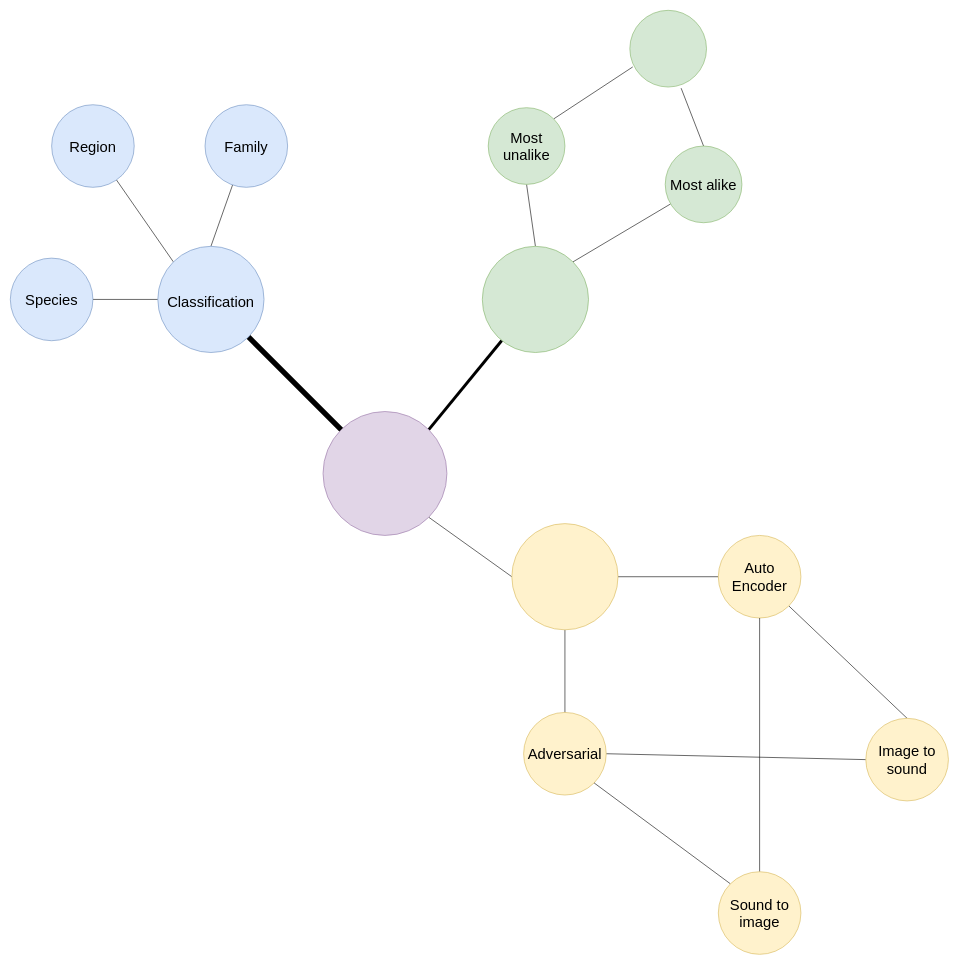
This 959x965 diagram has some shape labels left out. The box of each missing label's shape, as (x1, y1, x2, y2) in pixels:
Animal Sound Data Set: (322, 411, 447, 535)
Clustering: (482, 246, 589, 353)
Comparison to actual species: (629, 10, 707, 87)
Generation: (511, 523, 618, 630)
